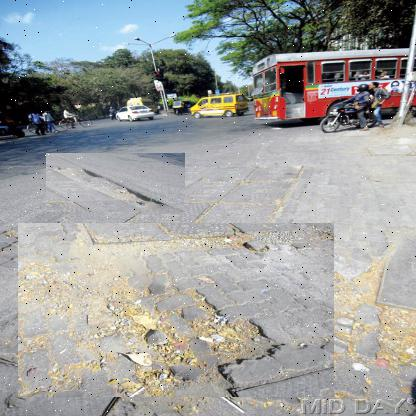damage: (18, 223, 335, 398), (46, 153, 186, 213)
